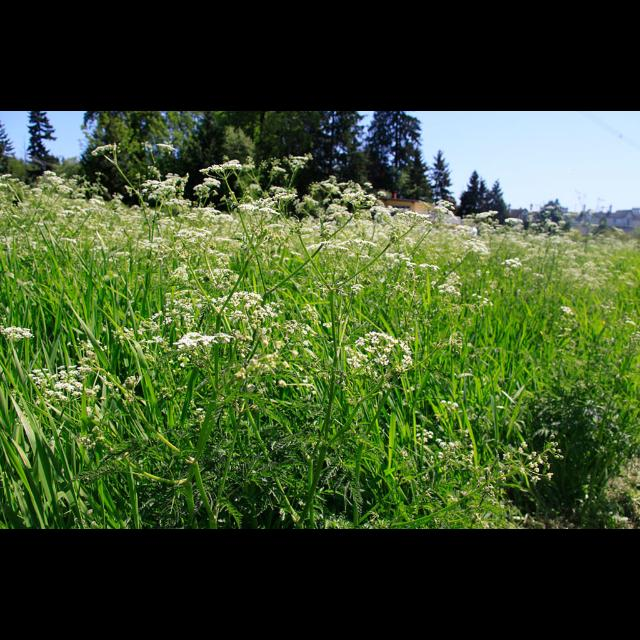Flower: (1, 141, 640, 489), (169, 326, 213, 372)
